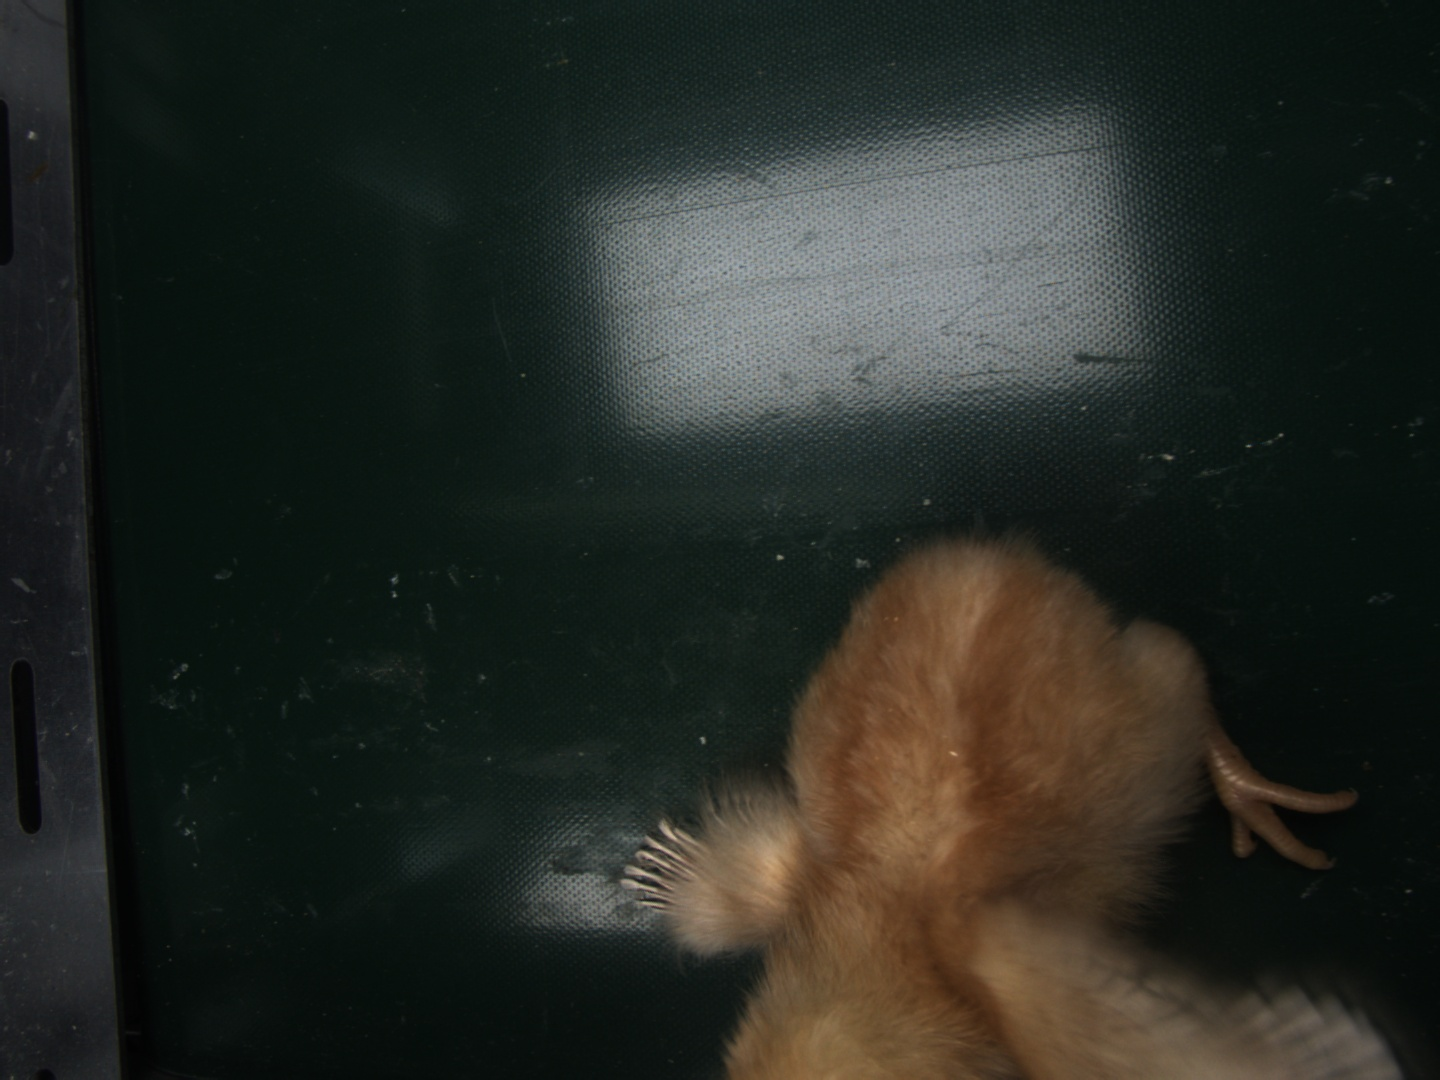female: (621, 819, 712, 916)
